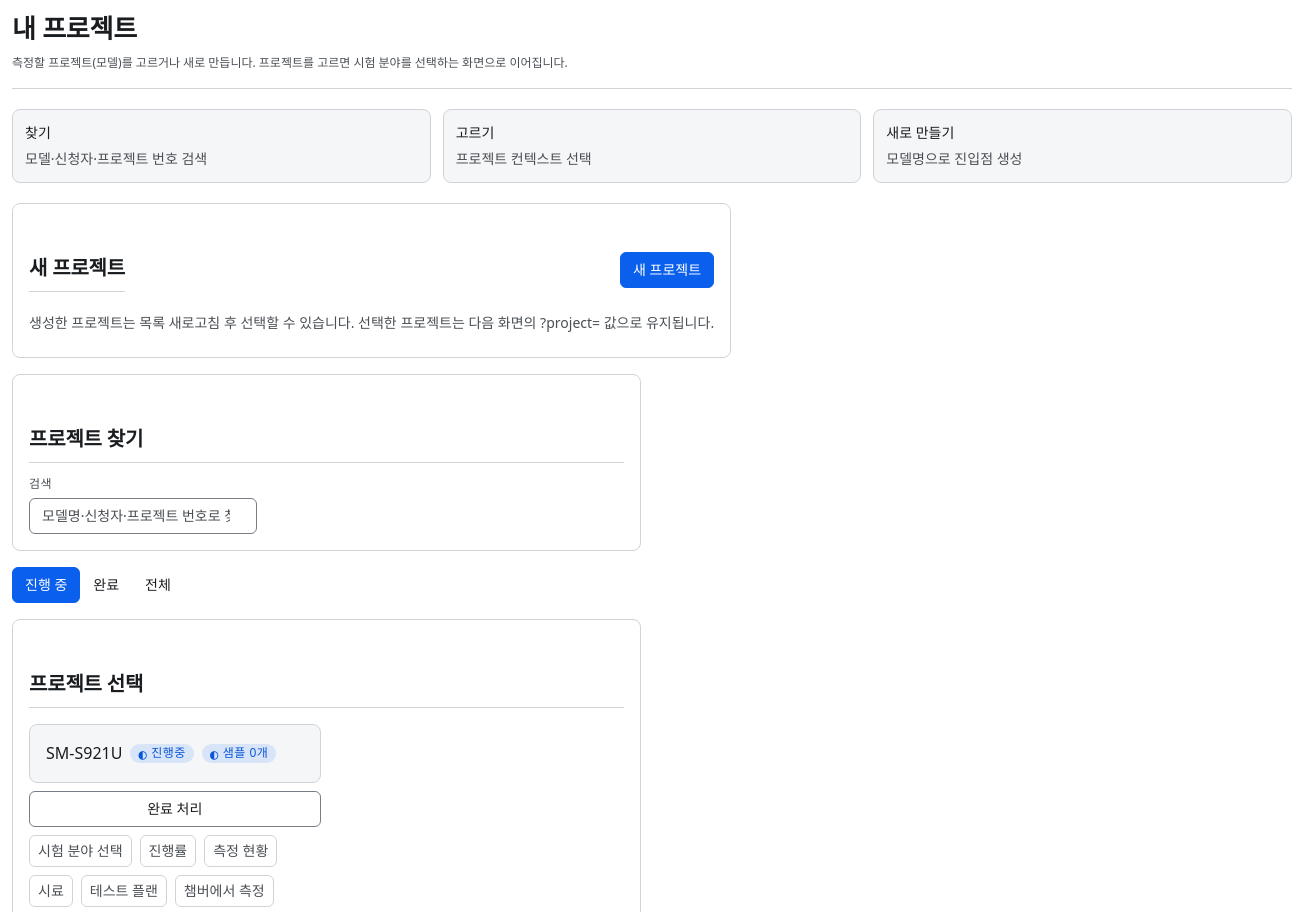
Scenario: MyProjectsRoute status filter + lifecycle (project-status-visibility) › surfaces a lifecycle error when the action fails (e.g. backend 403/404)
Click the button with test id "project-card-lifecycle" at (175, 809), box [29,791,321,827]
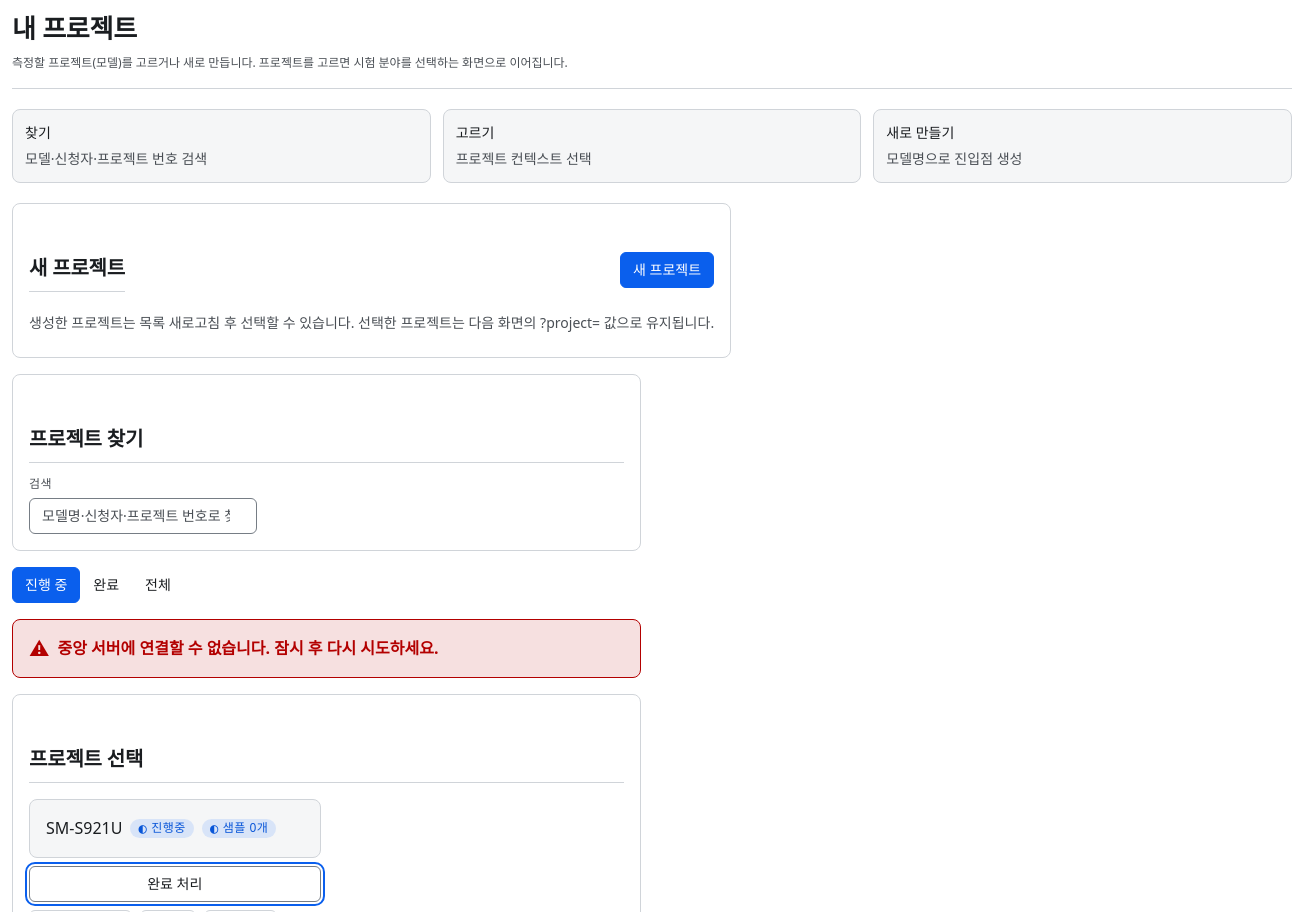
Expected: the message "중앙 서버에 연결할 수 없습니다. 잠시 후 다시 시도하세요." is shown, [12,619,641,678]
